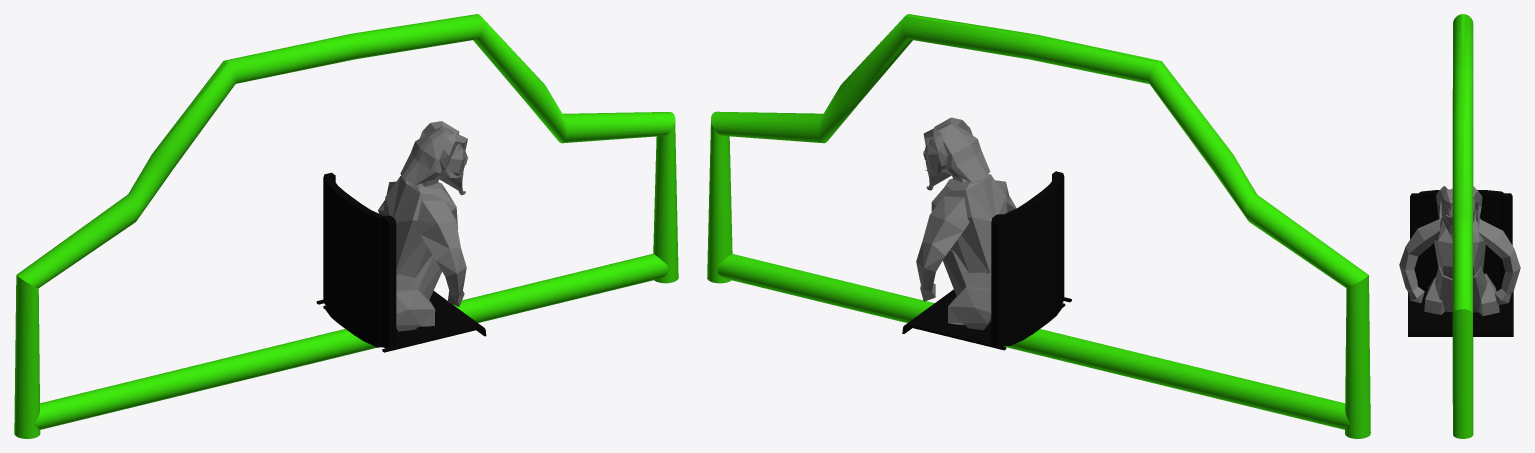
File: nguoichuot.fbx
3 views of the same model, side by side, from view 1: azimuth 30°, elevation 25°; view 2: azimuth 150°, elevation 25°; view 3: azimuth 270°, elevation 25° (orthographic). The views are drawn at different scales.
Parts seen in each view (by area): view 1: pCylinder55, Chair_Plastic1, Eye_C_Blue1; view 2: pCylinder55, Eye_C_Blue1, Chair_Plastic1; view 3: pCylinder55, Eye_C_Blue1, Chair_Plastic1.
Boxes of the visible parts, x1,y1,x2,y2 form: pCylinder55: [14, 14, 678, 438]; Chair_Plastic1: [316, 172, 486, 352]; Eye_C_Blue1: [378, 121, 468, 331]; pCylinder55: [707, 14, 1370, 438]; Eye_C_Blue1: [916, 117, 1016, 330]; Chair_Plastic1: [902, 171, 1071, 350]; pCylinder55: [1452, 14, 1473, 438]; Eye_C_Blue1: [1399, 186, 1520, 315]; Chair_Plastic1: [1408, 189, 1513, 336].
Size of the model in its own units: 17.32 by 8.1 by 3.52.
